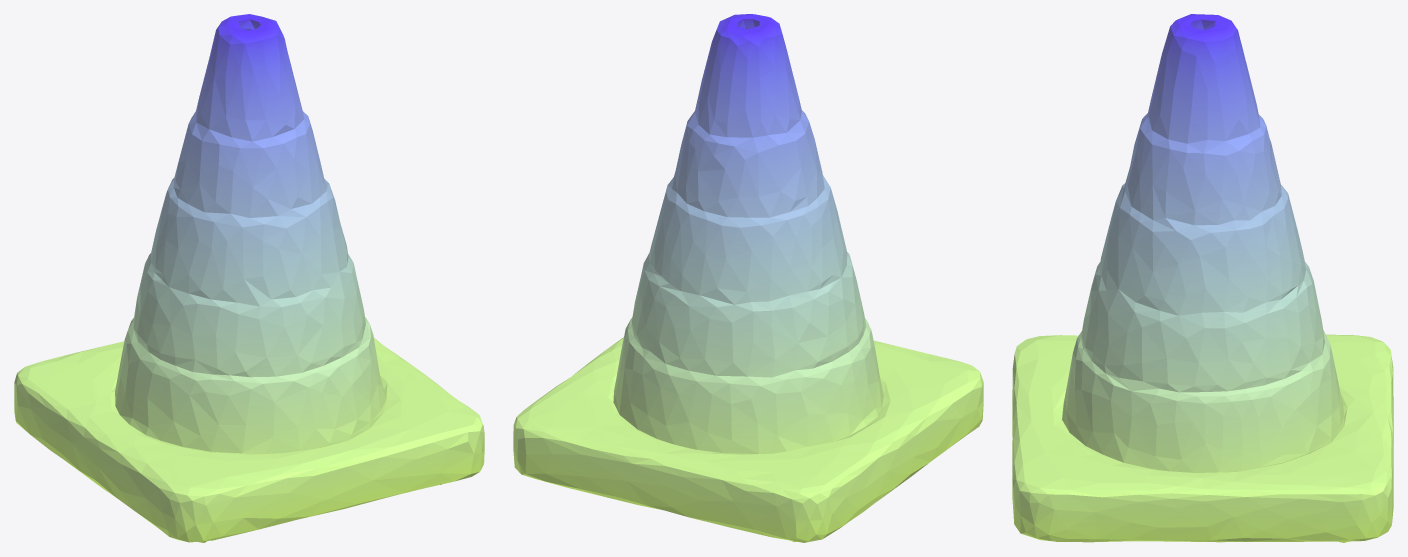
Rendered from 159_cyb_laser_gradient_fish_scales_2947_2026_10_03_600187.glb.
3 renders of one model, left to right at view 1: azimuth 30°, elevation 25°; view 2: azimuth 150°, elevation 25°; view 3: azimuth 270°, elevation 25°, orthographic. The views are drawn at different scales.
Parts seen in each view (by area): view 1: geometry_0; view 2: geometry_0; view 3: geometry_0.
Part boxes in pixels (<box>): geometry_0: <box>14,14,484,542</box>; geometry_0: <box>513,14,983,542</box>; geometry_0: <box>1012,14,1393,542</box>.
Bounding box in the file's own units: 0.7571 × 1 × 0.7574.
